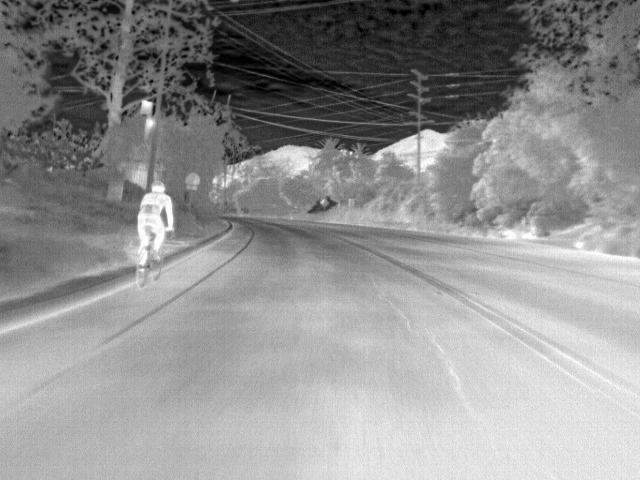person: (135, 178, 175, 268)
